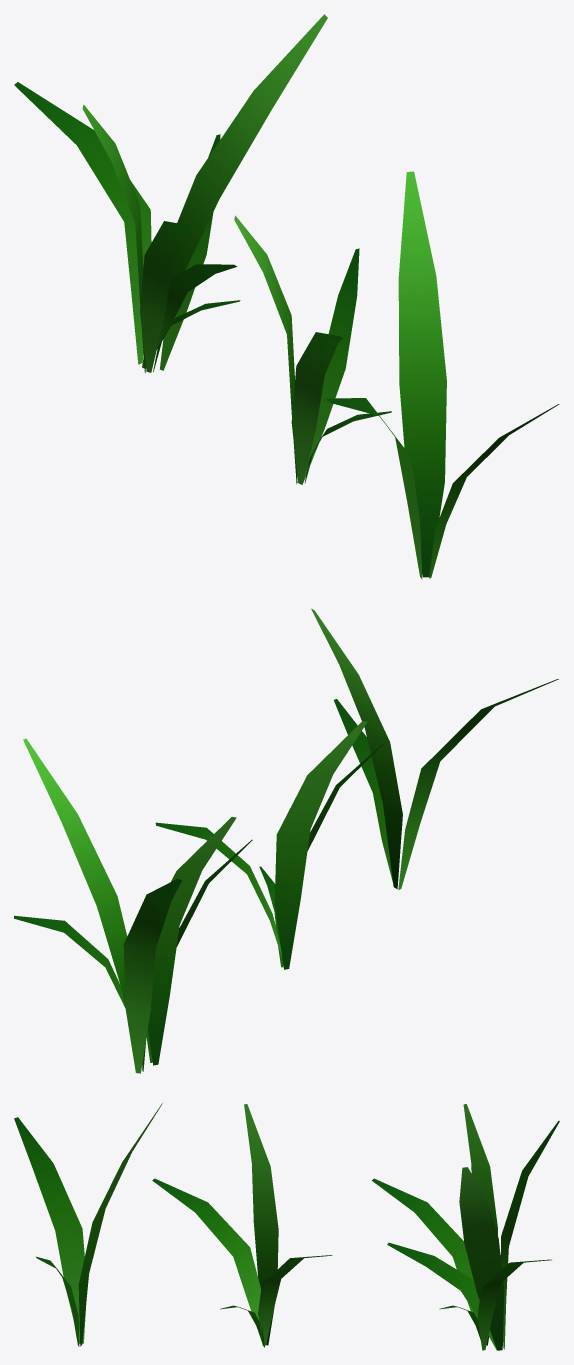
Rendered from GrassClumps.fbx.
3 renders of one model, top to bottom at view 1: azimuth 30°, elevation 25°; view 2: azimuth 150°, elevation 25°; view 3: azimuth 270°, elevation 25°, orthographic. The views are drawn at different scales.
Parts seen in each view (by area): view 1: grass.004, grass.001, grass.002; view 2: grass.004, grass.001, grass.002; view 3: grass.004, grass.002, grass.001.
Boxes of the visible parts, box(x1,y1,x2,y2) form: grass.004: box(14, 14, 327, 373); grass.001: box(327, 171, 559, 578); grass.002: box(234, 215, 391, 484); grass.004: box(14, 738, 252, 1073); grass.001: box(311, 608, 558, 889); grass.002: box(155, 721, 383, 969); grass.004: box(372, 1104, 559, 1350); grass.002: box(152, 1104, 332, 1347); grass.001: box(14, 1103, 162, 1346).
Size of the model in its own units: 1.67 by 1.85 by 3.54.
Materials: 1 (1 with a texture image).
